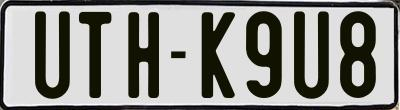8: (338, 8, 380, 96)
9: (245, 8, 283, 95)
H: (126, 10, 160, 101)
K: (201, 9, 236, 96)
T: (78, 11, 115, 101)
U: (35, 8, 73, 99), (292, 10, 328, 103)
